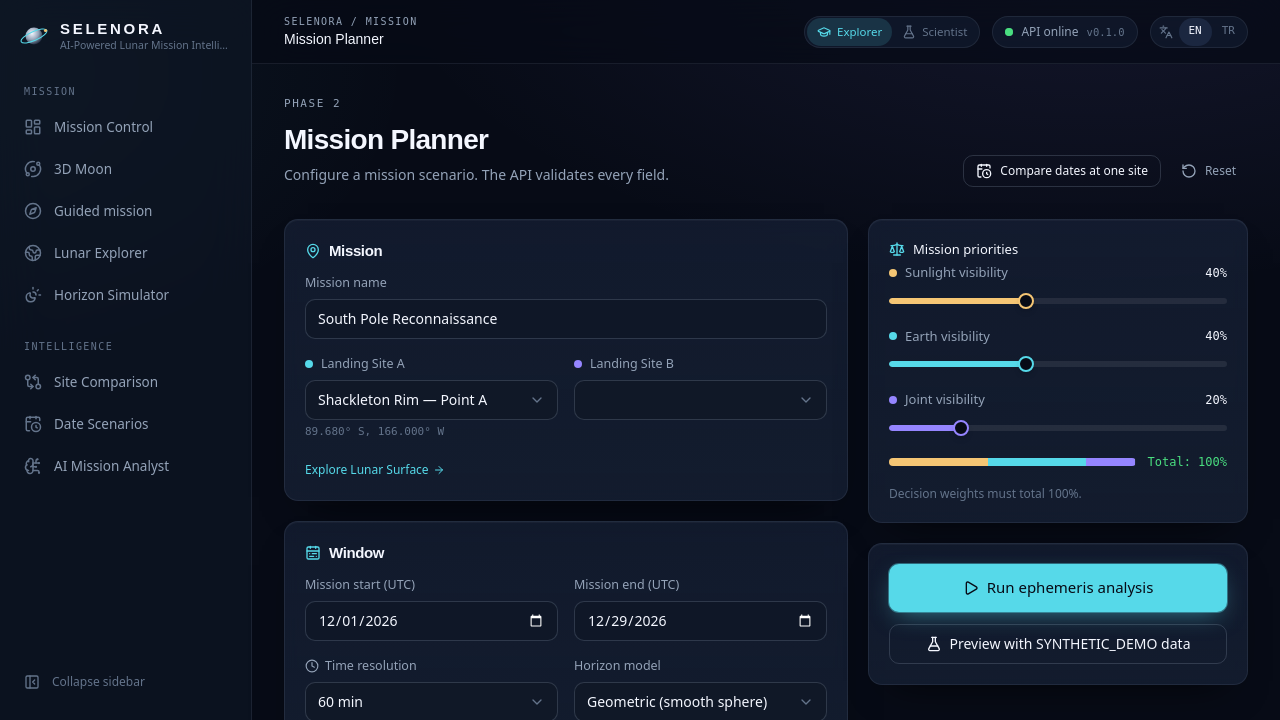
Test: SELENORA app shell › validates the planner form before submitting
Clear the field labelled "Mission name" at [566, 319], box x1=305 y1=299 x2=827 y2=339
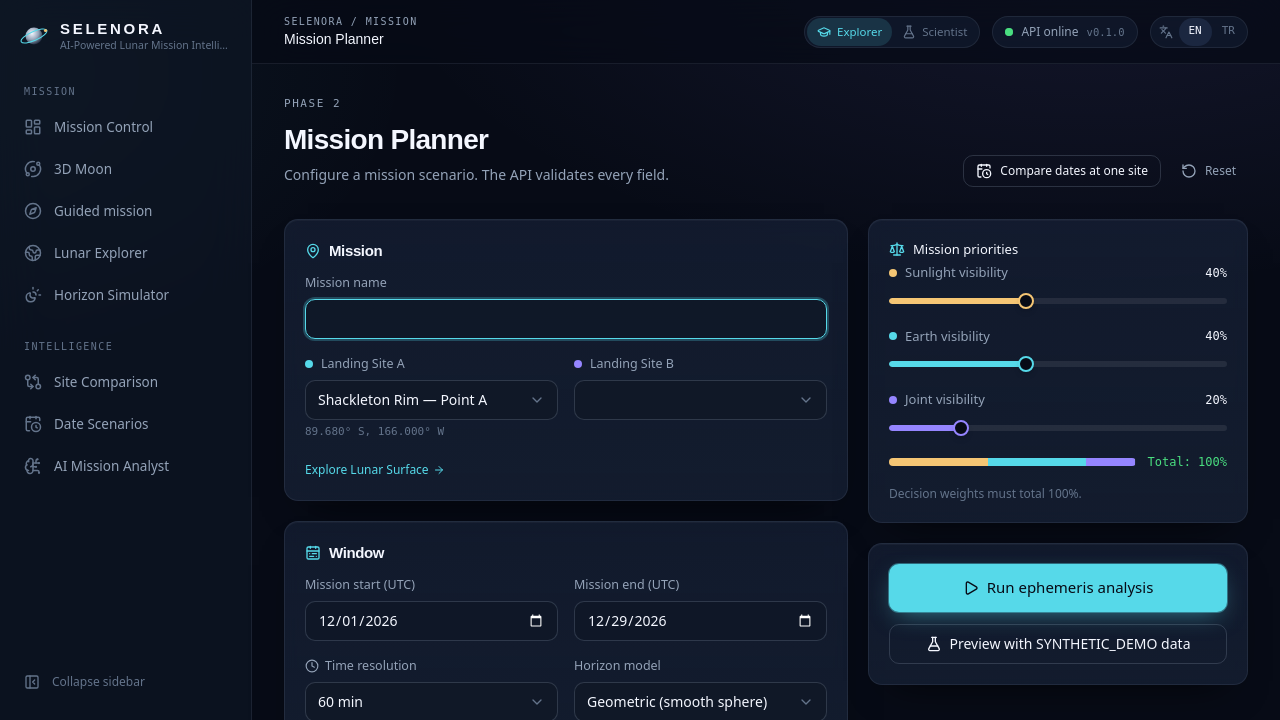
Click the button "Run ephemeris analysis" at [1058, 588], box x1=889 y1=564 x2=1227 y2=612
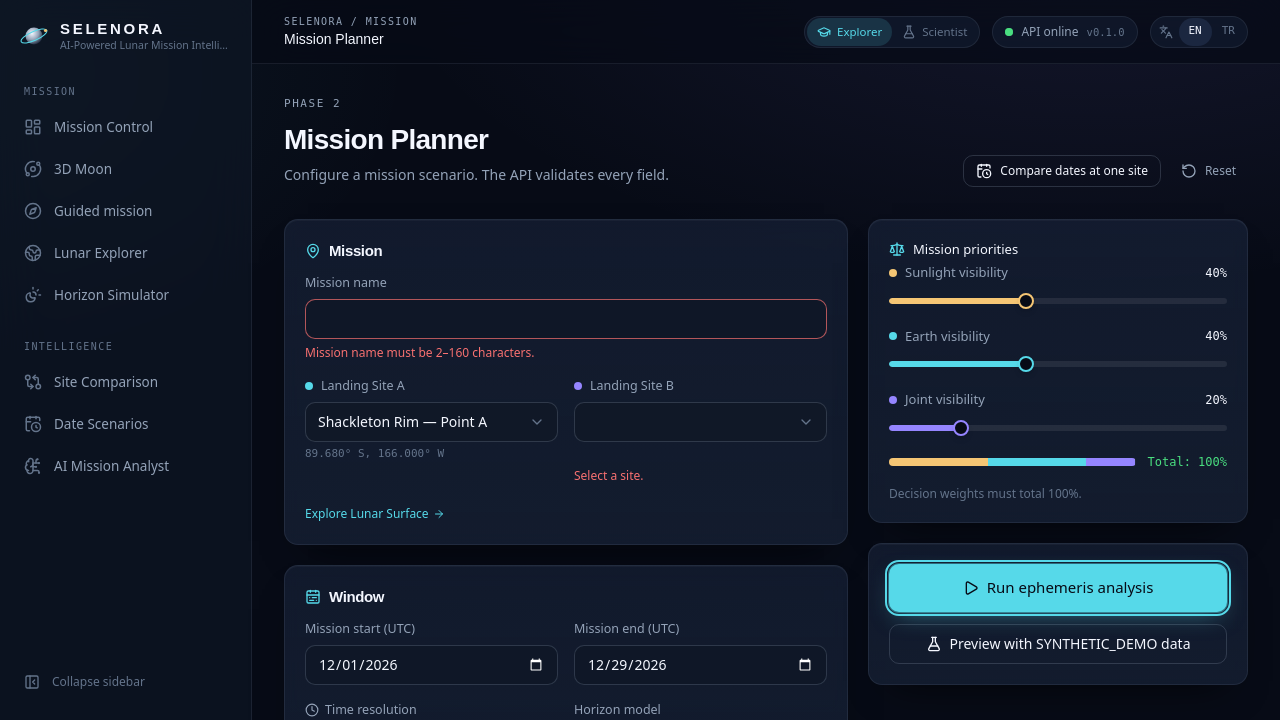
Now the text "Mission name must be 2–160 characters." is shown, box x1=305 y1=344 x2=534 y2=361
